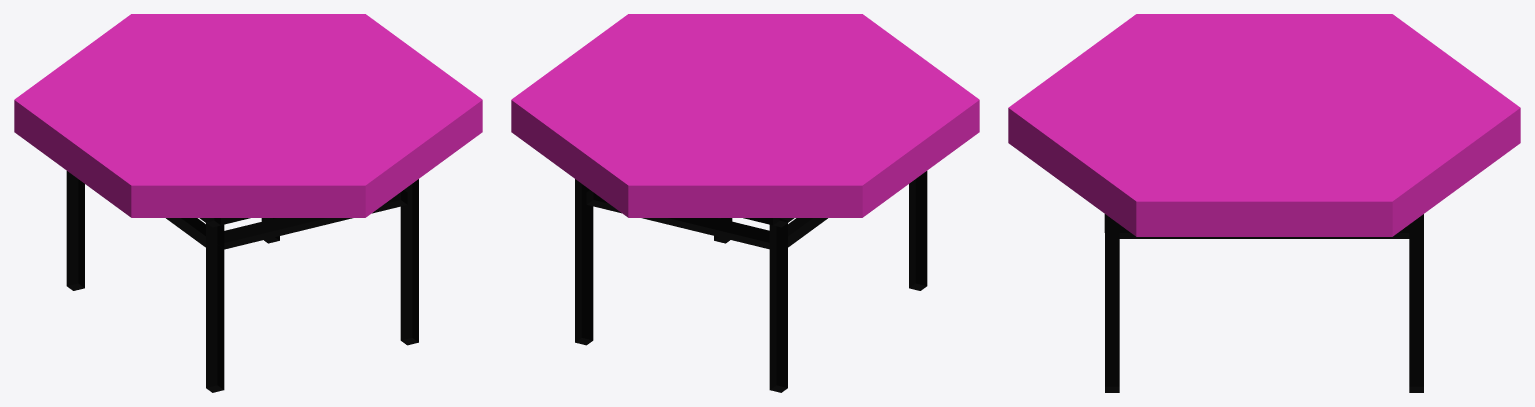
The model's file is table 6 Hexagon .fbx.
3 views of the same model, side by side, from view 1: azimuth 30°, elevation 25°; view 2: azimuth 150°, elevation 25°; view 3: azimuth 270°, elevation 25° (orthographic). The views are drawn at different scales.
Visible parts, largest first — view 1: Circle, Cube.003; view 2: Circle, Cube.003; view 3: Circle, Cube.003.
Boxes of the visible parts, bbox=[...] form: Circle: bbox=[14, 14, 482, 217]; Cube.003: bbox=[66, 171, 418, 392]; Circle: bbox=[511, 14, 979, 217]; Cube.003: bbox=[575, 171, 927, 392]; Circle: bbox=[1008, 14, 1520, 236]; Cube.003: bbox=[1104, 214, 1423, 392].
Bounding box in the file's own units: 508 × 295 × 587.
